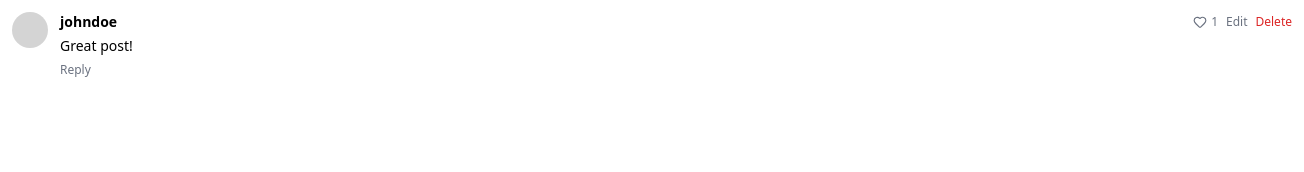
it: CommentCard Component › opens edit field and submits updated text on save
Step 1. Click the button "Edit" → [1237, 22], box left=1226, top=14, right=1248, bottom=30
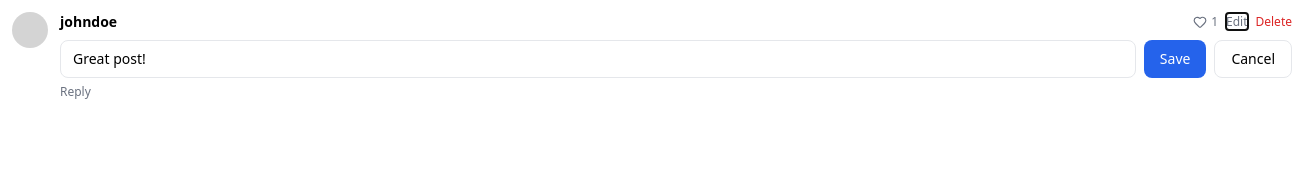
Step 2. Replace the text in the field showing "Great post!" with "Updated post caption!" → [598, 59], box left=60, top=40, right=1136, bottom=78
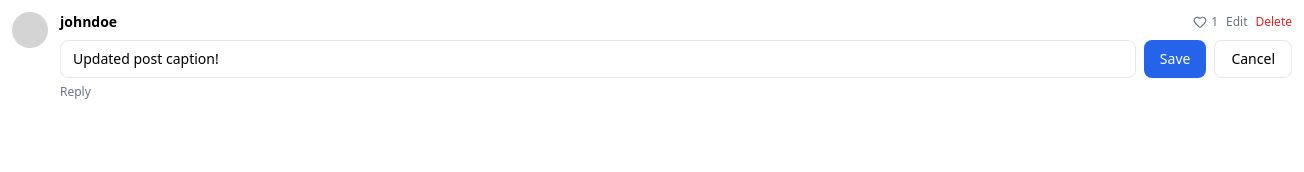
Step 3. Click the button "Save" → [1175, 59], box left=1144, top=40, right=1206, bottom=78
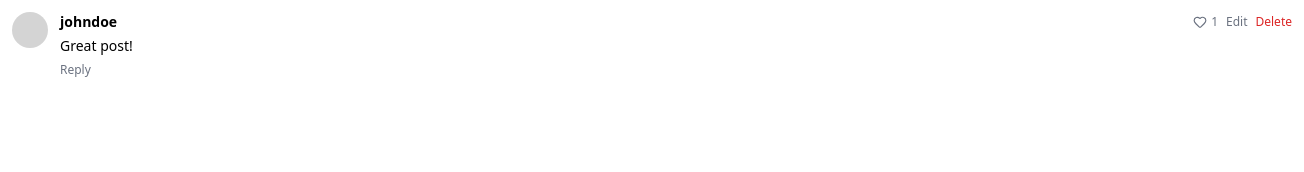
Expected: the button "Save" is gone
